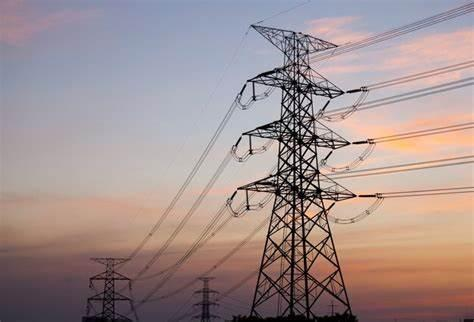power_tower: (233, 16, 374, 322), (85, 251, 139, 322), (189, 271, 225, 317)
